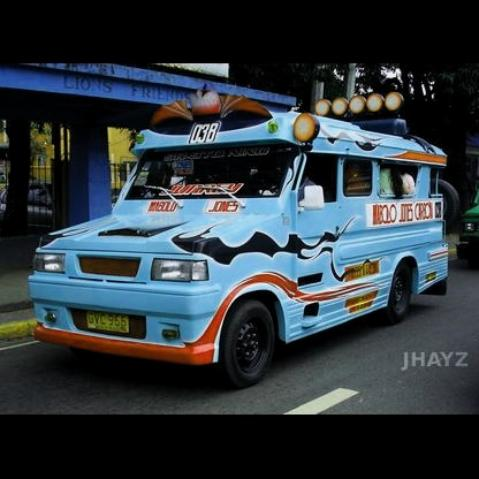jeepney: (0, 76, 471, 399)
